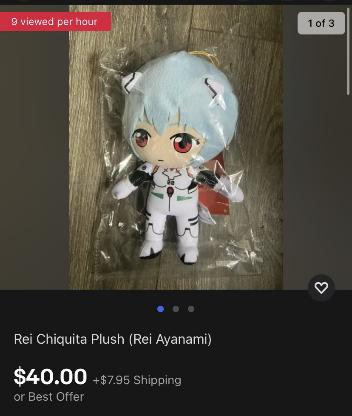rei-plush: (111, 52, 251, 266)
